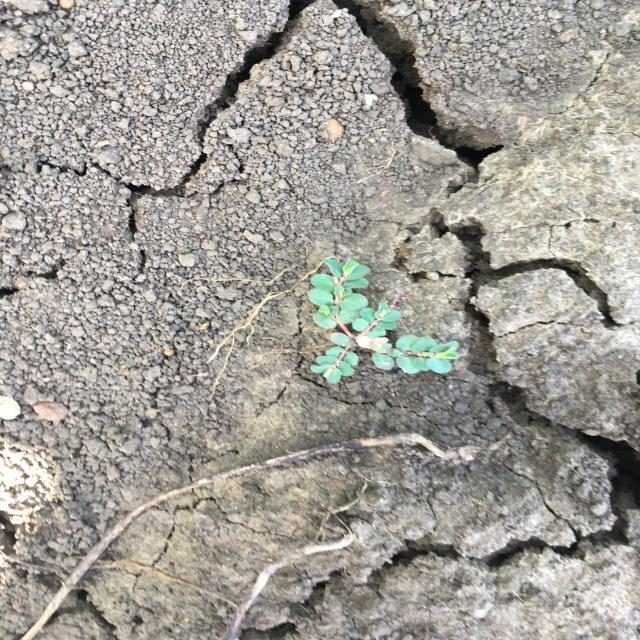SpottedSpurge: (303, 256, 464, 386)
